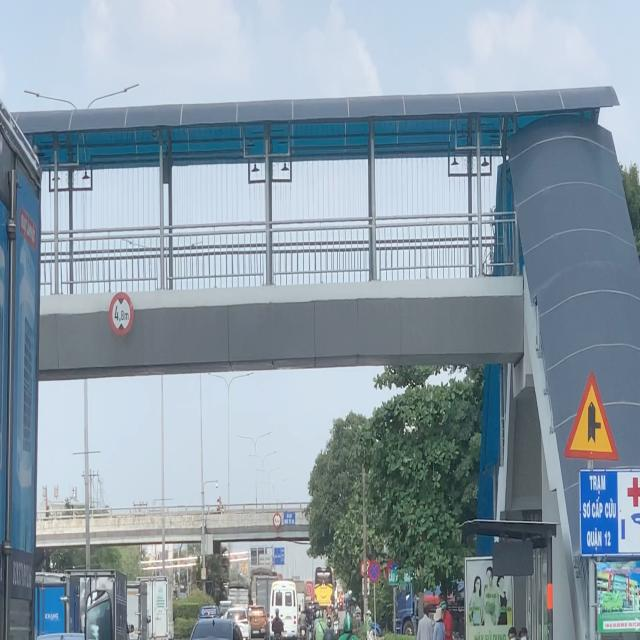Cam dung va do: (368, 560, 380, 583)
Chieu cao toi da: (109, 292, 134, 336), (273, 513, 281, 529)
Giao voi duong khong uu tien: (564, 370, 620, 462)
